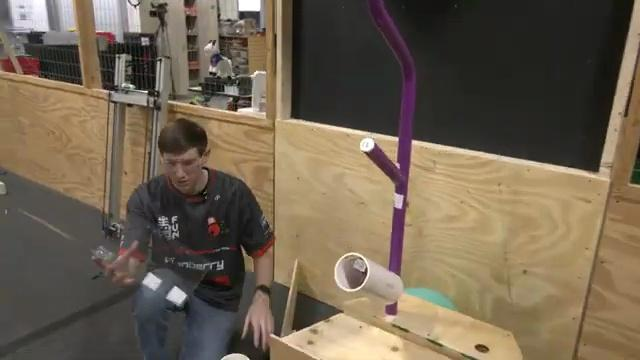CORAL: (332, 251, 406, 304)
